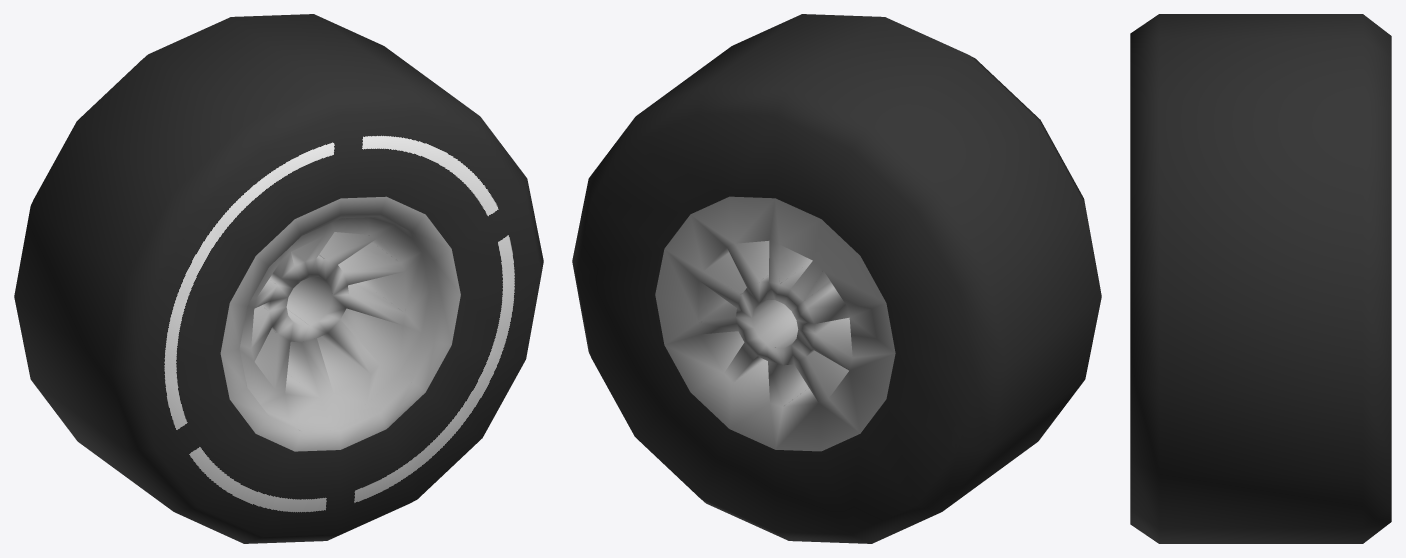
Rendered from tyre.gltf.
The picture shows the model from 3 angles, left to right: view 1: azimuth 30°, elevation 25°; view 2: azimuth 150°, elevation 25°; view 3: azimuth 270°, elevation 25°; orthographic projection. The views are drawn at different scales.
Parts seen in each view (by area): view 1: Tyre; view 2: Tyre; view 3: Tyre.
Boxes of the visible parts, x1,y1,x2,y2 form: Tyre: [14, 14, 543, 543]; Tyre: [572, 14, 1101, 543]; Tyre: [1130, 14, 1391, 543].
Bounding box in the file's own units: 0.6605 × 0.6605 × 0.3258.
Materials: 1 (1 with a texture image).
